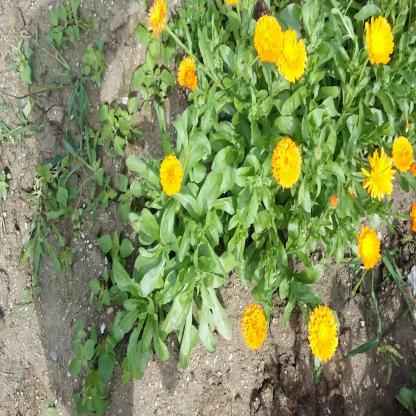marigold: (309, 306, 338, 362), (273, 134, 302, 188), (254, 13, 283, 64), (366, 15, 394, 67), (276, 30, 304, 82), (362, 150, 392, 198), (241, 304, 266, 349), (358, 230, 381, 270), (159, 156, 181, 194), (177, 53, 199, 90), (393, 137, 413, 173), (148, 0, 166, 36)
